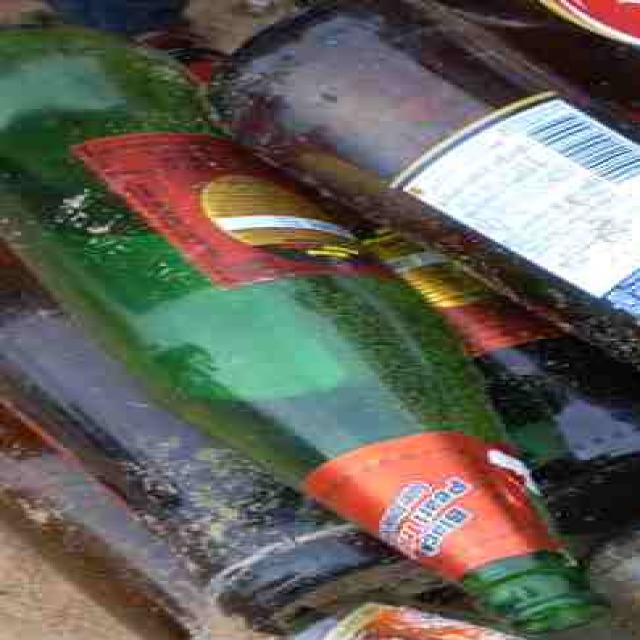thuy_tinh: (3, 26, 587, 633), (224, 0, 640, 364), (3, 256, 395, 614), (363, 231, 640, 536)
